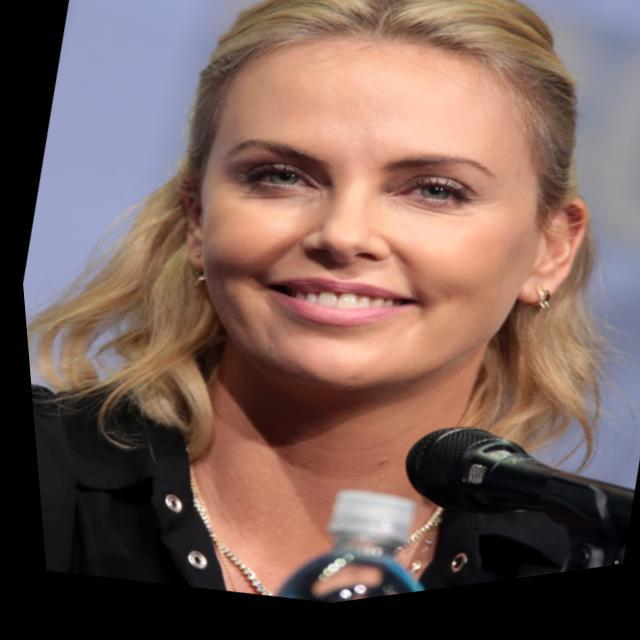Nonhelmet: (161, 0, 597, 405)
